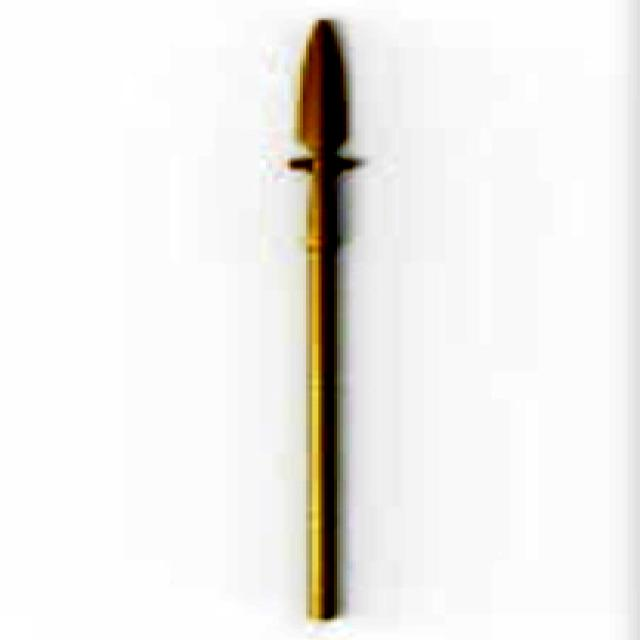spear: (224, 8, 396, 633)
